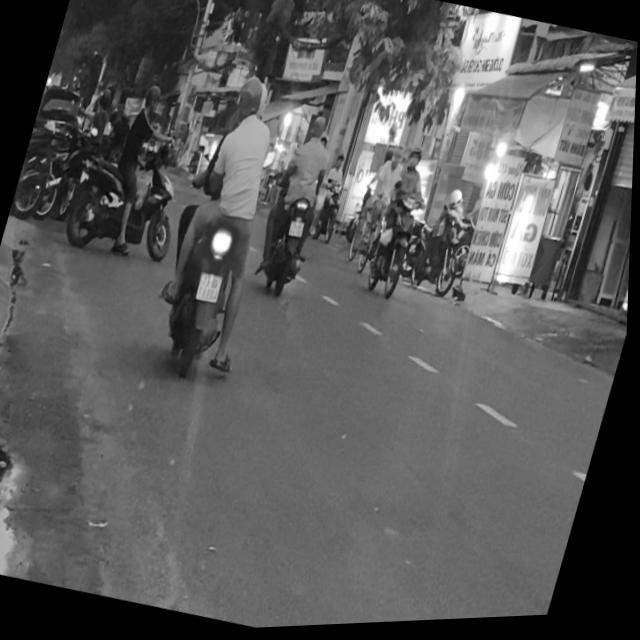helmet: (233, 74, 274, 127)
licenseplate: (142, 63, 309, 387)
nohelmet: (198, 271, 227, 304)
